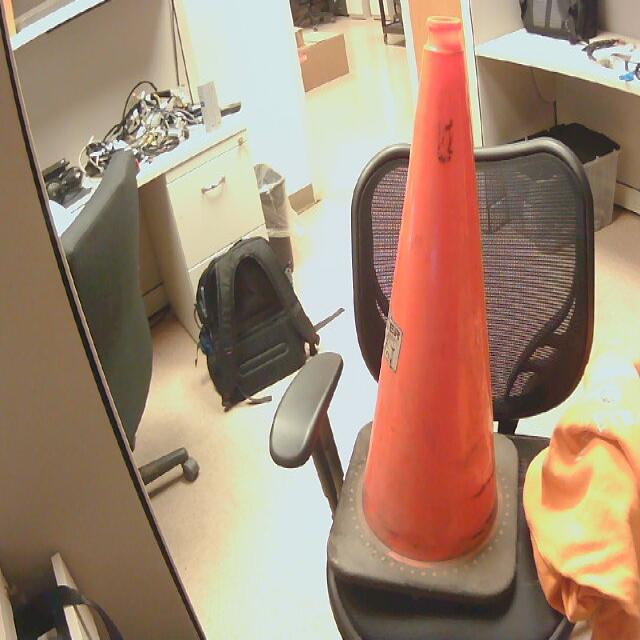traffic cone: (328, 18, 520, 606)
